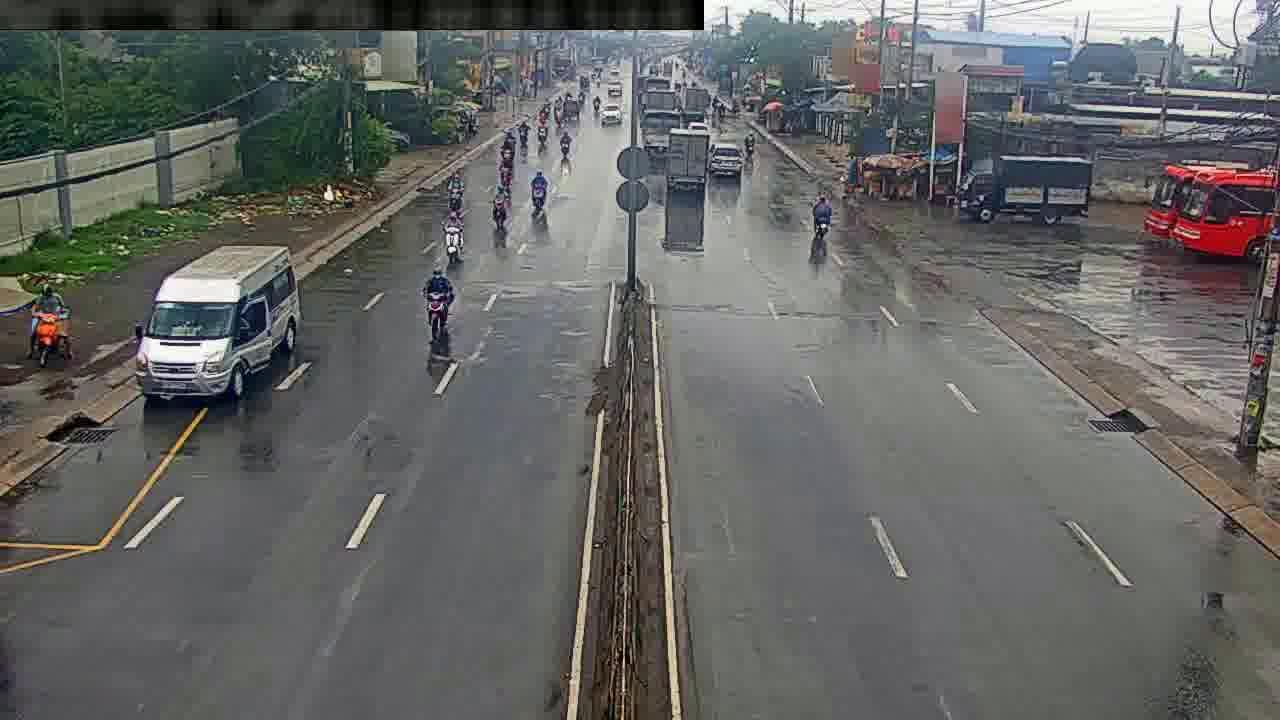14: (135, 243, 300, 395)
8: (666, 129, 703, 180), (707, 140, 747, 176)
container: (707, 131, 746, 176)
motorbike: (31, 280, 73, 360), (425, 265, 458, 342), (812, 195, 834, 249), (443, 206, 465, 260), (532, 169, 552, 219), (494, 176, 512, 230), (446, 171, 466, 204), (499, 134, 514, 174), (557, 122, 571, 163)
